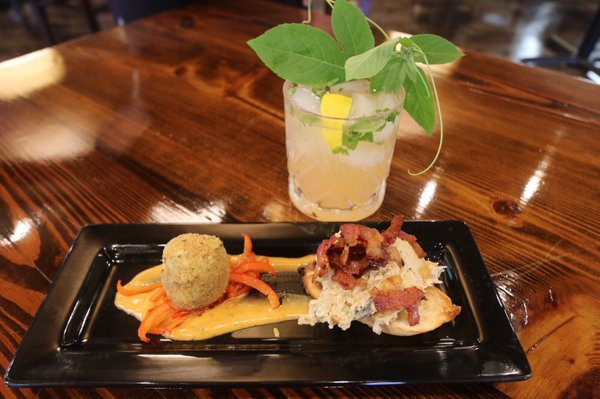pizza: (283, 76, 404, 219)
